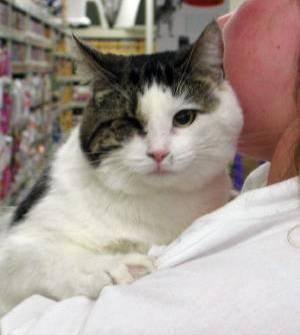cat: (0, 21, 242, 315)
